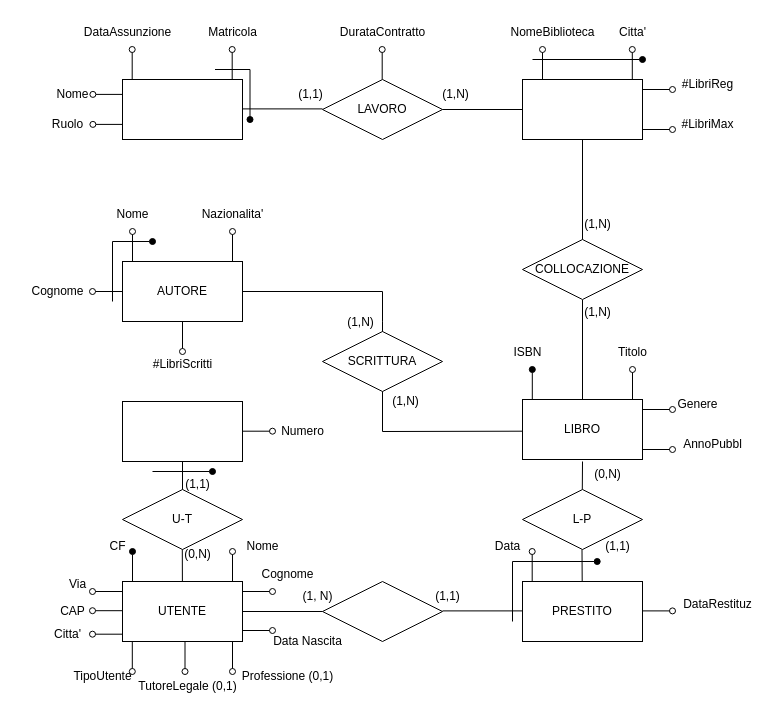
The diagram is 779 pixels wide and 718 high, and some of its shapes have lost their labels. The shapes that lost their labels are listed below. From the top down, each one's centre as x and y in pixels, then its label:
At [182,109]: "BIBLIOTECARIO".
At [582,109]: "BIBLIOTECA".
At [182,431]: "TELEFONO".
At [382,611]: "U-P".
